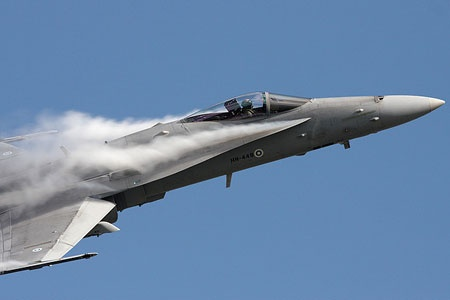airplane: (1, 85, 446, 276)
